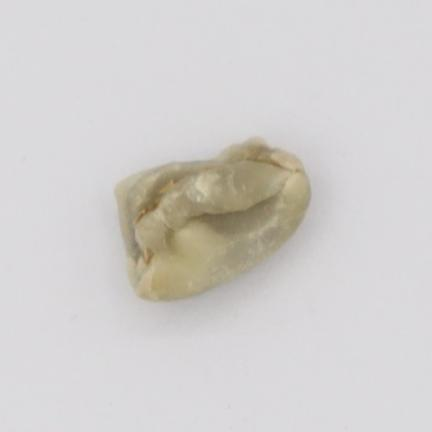cut: (116, 139, 310, 300)
